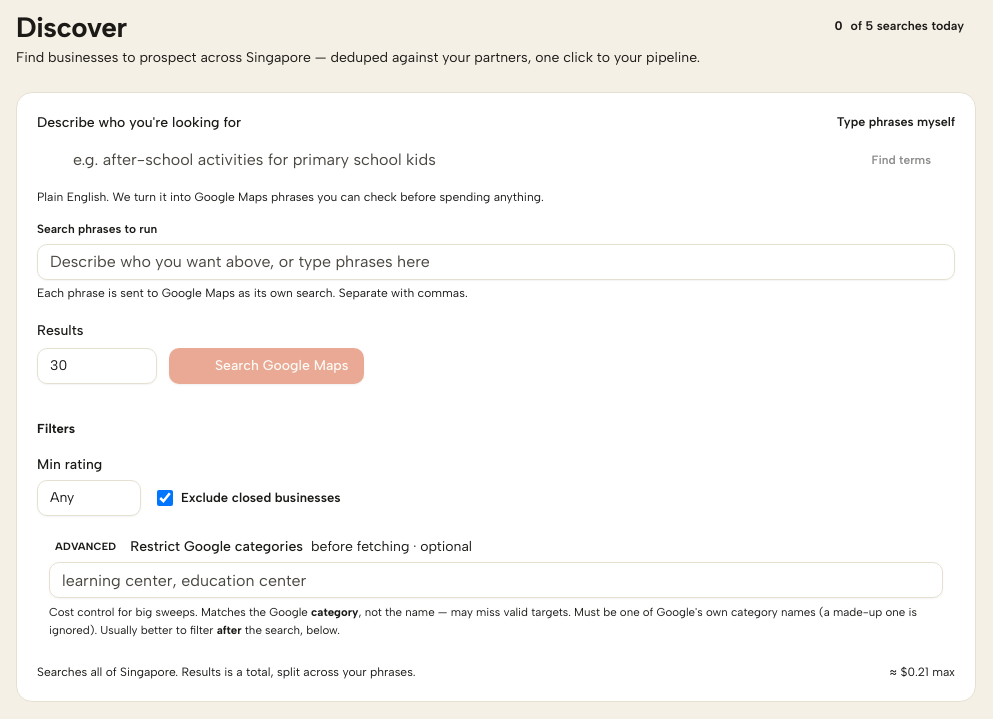
Test: DiscoverPage › an operator can still switch to typing phrases themselves
The image size is (993, 719).
Click the button "Type phrases myself" at (896, 123), box [837, 113, 955, 132]
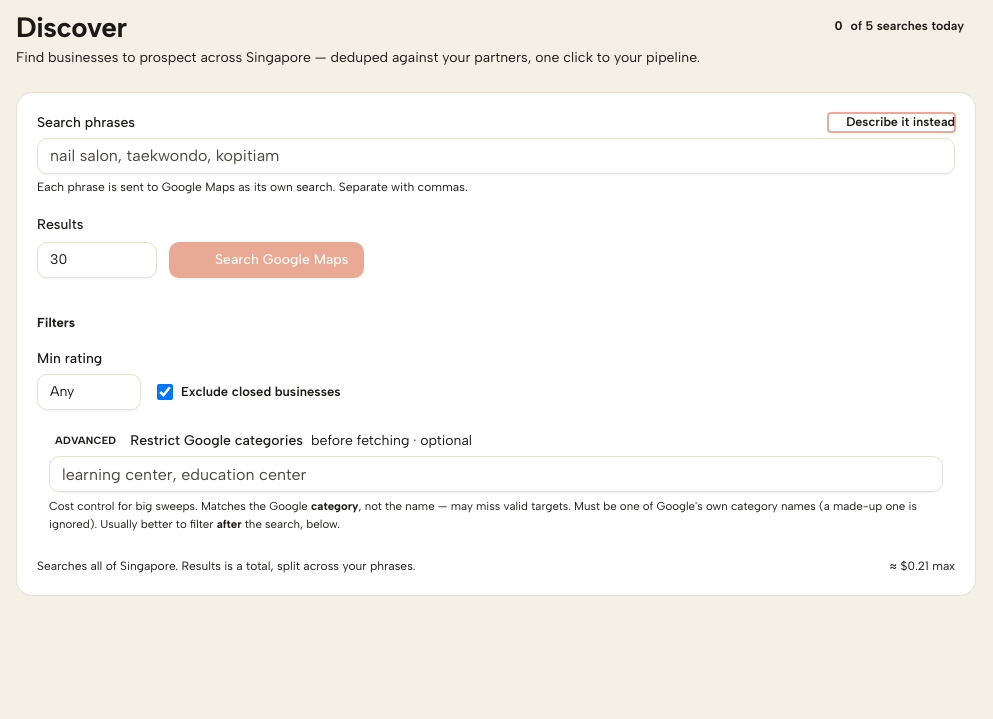
Expected: the label labelled "Describe who you're looking for" is gone
Expected: the field with placeholder "nail salon, taekwondo, kopitiam" is shown, [37, 138, 955, 174]
